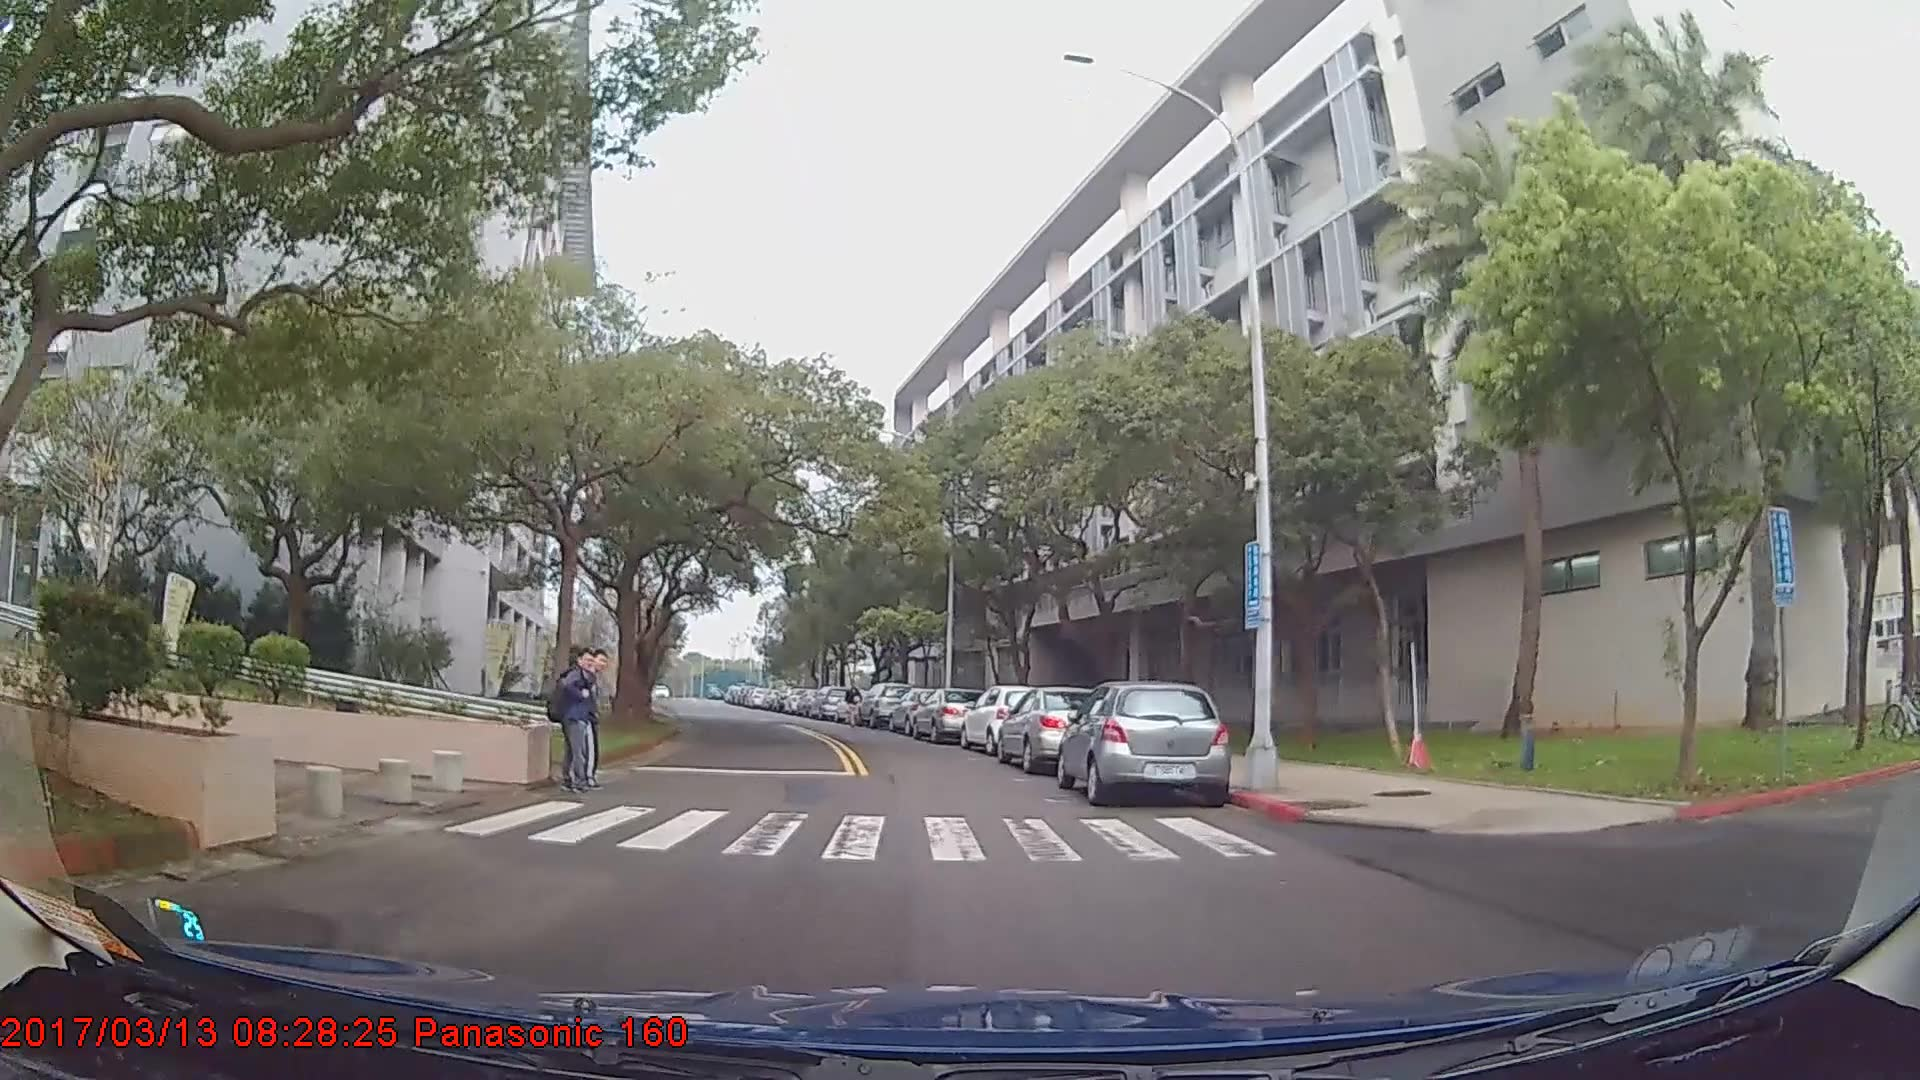pedestrian: (546, 648, 604, 798), (845, 680, 865, 730)
vehicle: (1057, 679, 1231, 806), (993, 685, 1108, 774), (959, 684, 1053, 757), (908, 684, 989, 743), (855, 680, 912, 726), (811, 684, 848, 720)
